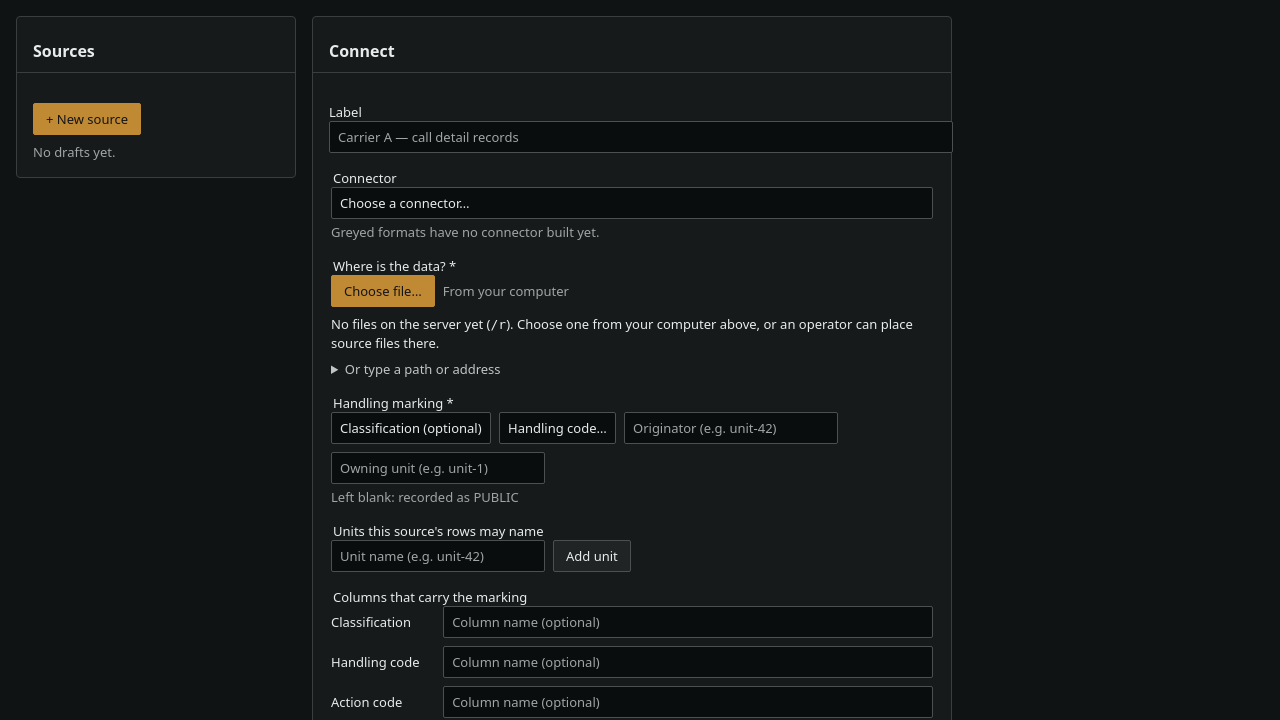
Test case: Connect: the units a source's rows may name › removes a unit
This screenshot has width=1280, height=720.
Check: the button "Choose file…" is shown, box x1=331 y1=274 x2=435 y2=306
Type "unit-8" into the field labelled "Unit name". click: point(438, 556)
box: x1=331 y1=540 x2=545 y2=572
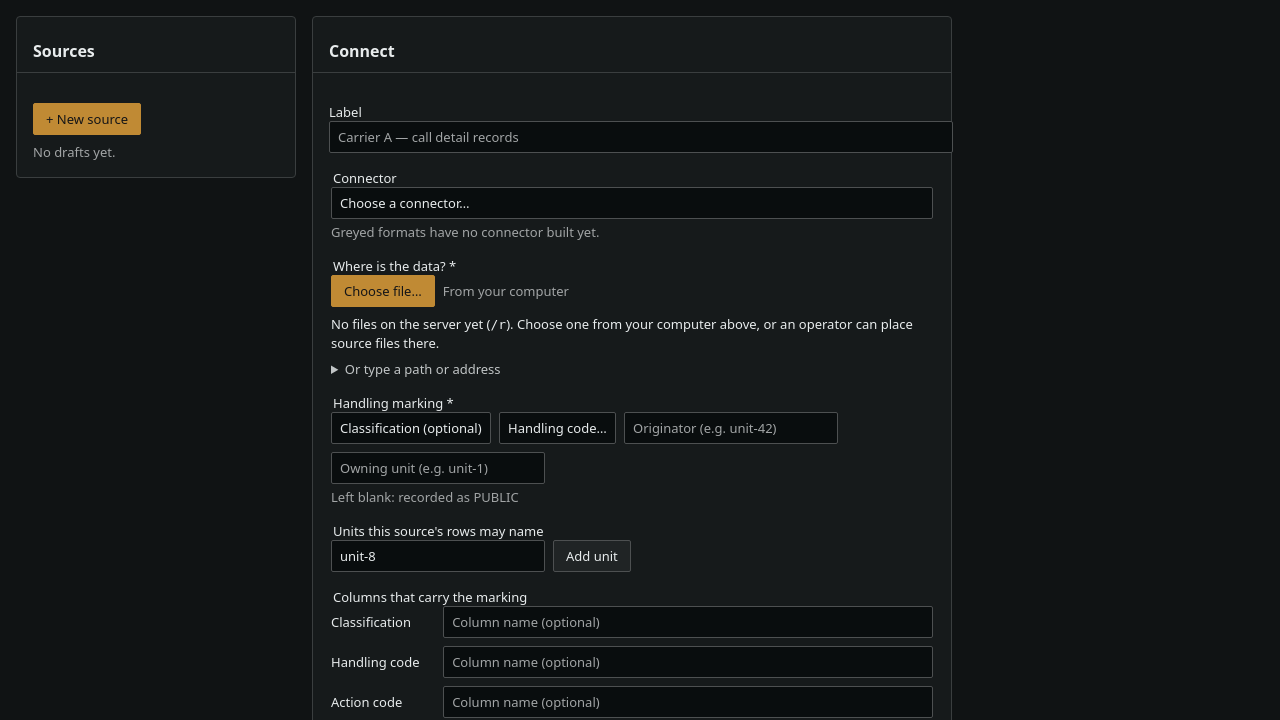
Click the button "Add unit". click: point(592, 556)
box: x1=553 y1=540 x2=631 y2=572
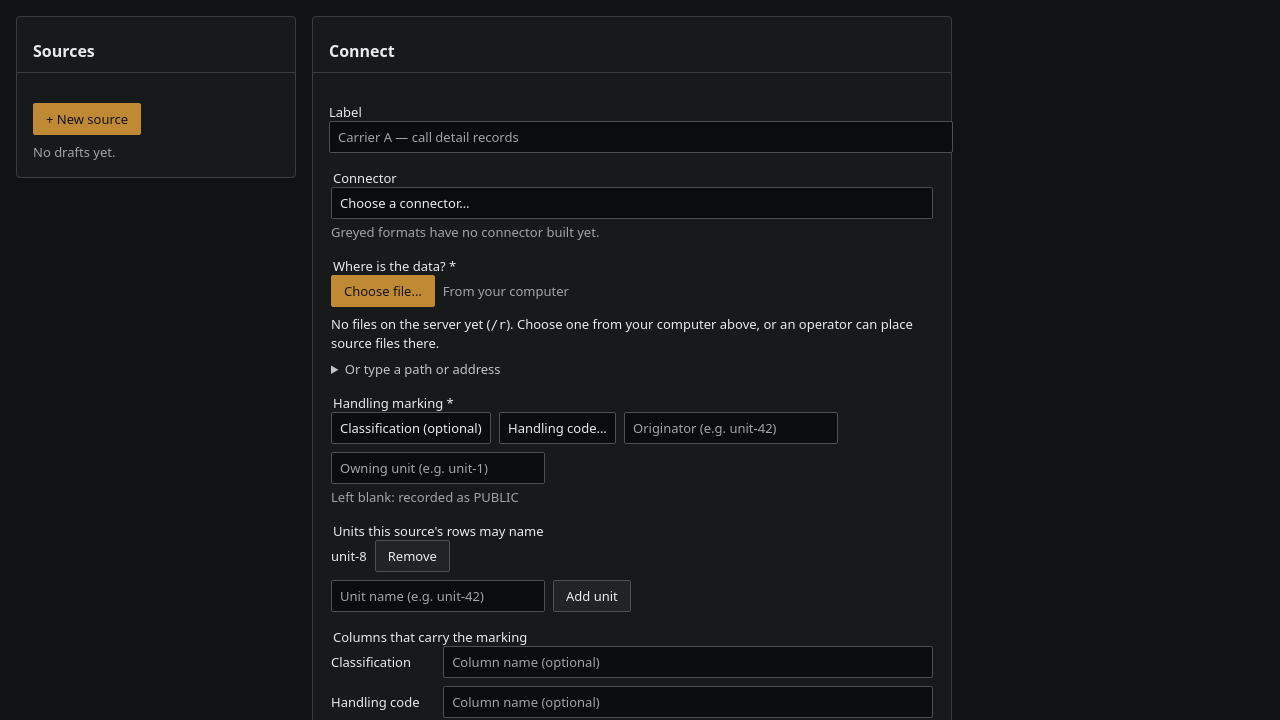
Click the button with aria-label "Remove unit unit-8". click: point(412, 556)
box: x1=375 y1=540 x2=450 y2=572
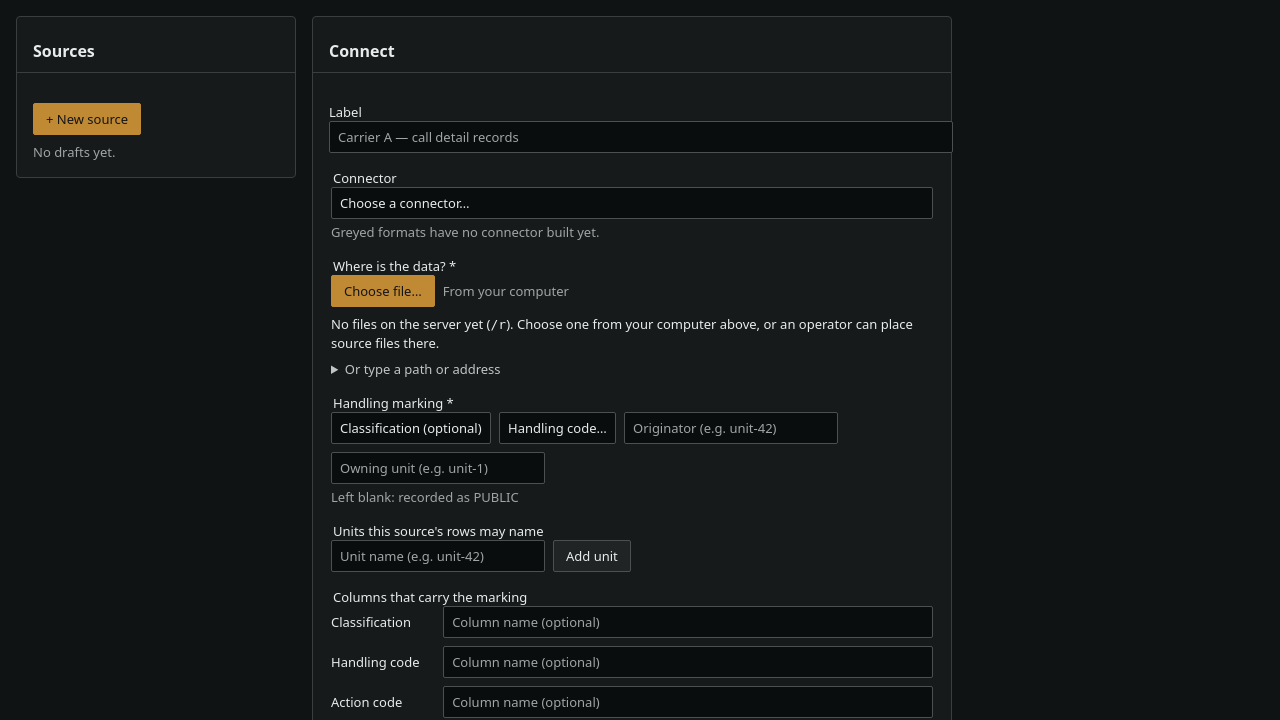
Check: the text "unit-8" is gone
